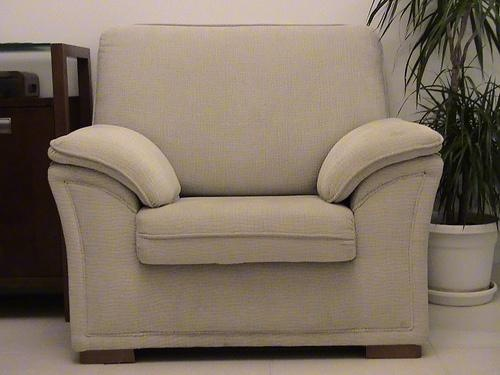chair: (47, 22, 447, 361)
pottedplant: (366, 1, 500, 301)
